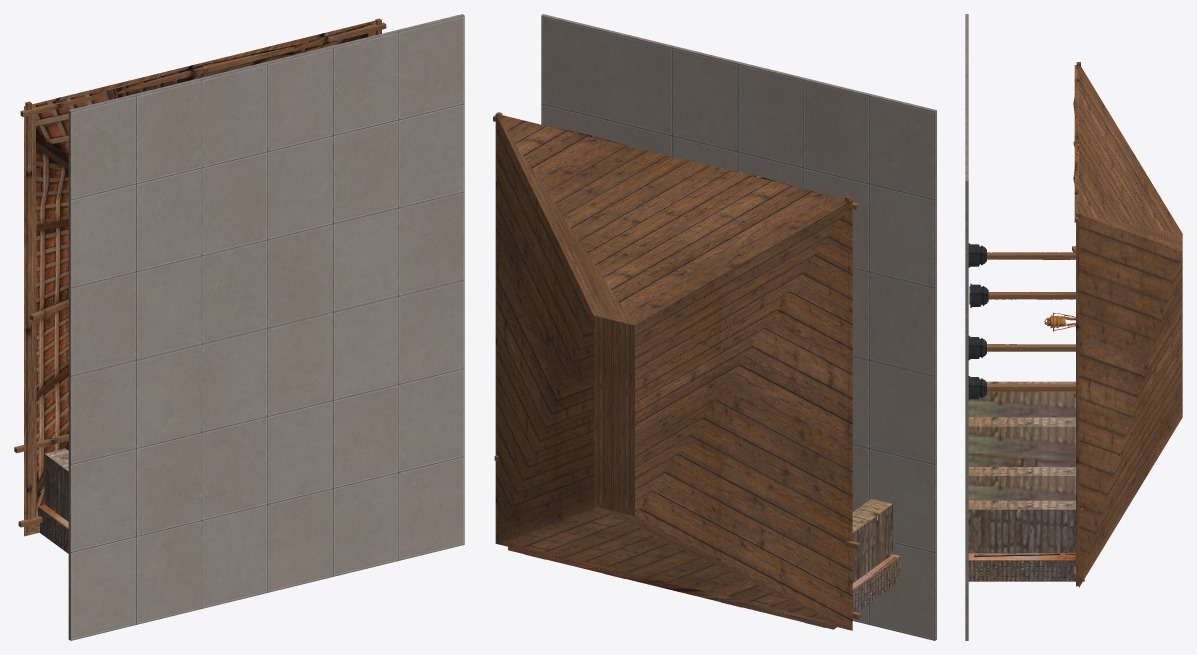
The picture shows the model from 3 angles, left to right: view 1: azimuth 30°, elevation 25°; view 2: azimuth 150°, elevation 25°; view 3: azimuth 270°, elevation 25°; orthographic projection. The views are drawn at different scales.
Parts seen in each view (by area): view 1: Plane.003, Plane.004, Cube.020, Cube.015, Cube.014, Cube.024, Cube.019; view 2: Cube.020, Plane.003, Cube.019, Cube.024, Cube.015, Cube.016; view 3: Cube.020, Cube.026, Cube.022, Cube.025, Mesh_0.001, Cube.019, Cube.024, Plane.003, Cube.016, Cube.014, Cube.001, Cube.004 (+2 smaller).
Boxes of the visible parts, x1,y1,x2,y2 form: Plane.003: (68, 14, 464, 640); Plane.004: (36, 23, 371, 528); Cube.020: (24, 20, 375, 536); Cube.015: (25, 101, 31, 532); Cube.014: (20, 22, 386, 116); Cube.024: (44, 448, 68, 521); Cube.019: (38, 504, 68, 553); Cube.020: (495, 115, 852, 630); Plane.003: (541, 14, 936, 640); Cube.019: (508, 543, 900, 629); Cube.024: (806, 499, 892, 627); Cube.015: (845, 195, 851, 626); Cube.016: (495, 112, 502, 542); Cube.020: (1079, 66, 1182, 587); Cube.026: (968, 500, 1075, 553); Cube.022: (968, 417, 1075, 466); Cube.025: (968, 467, 1075, 500); Mesh_0.001: (969, 252, 1075, 391); Cube.019: (968, 553, 1084, 581); Cube.024: (968, 381, 1075, 417); Plane.003: (965, 14, 968, 640); Cube.016: (1076, 212, 1080, 586); Cube.014: (1074, 65, 1078, 222); Cube.001: (968, 243, 986, 267); Cube.004: (968, 376, 986, 400).
Bounding box in the file's own units: 3.79 × 4.87 × 2.09.
6 materials, 6 textured.
